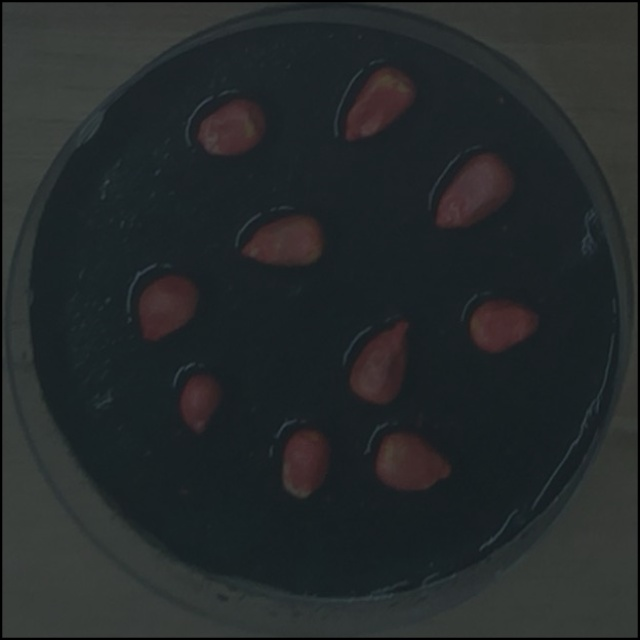Zea mays: (427, 144, 521, 237), (336, 59, 423, 150), (341, 312, 418, 412), (367, 422, 459, 497), (234, 205, 333, 274), (191, 91, 274, 165), (132, 267, 207, 348), (463, 290, 547, 360), (274, 419, 338, 507), (174, 366, 232, 440)
